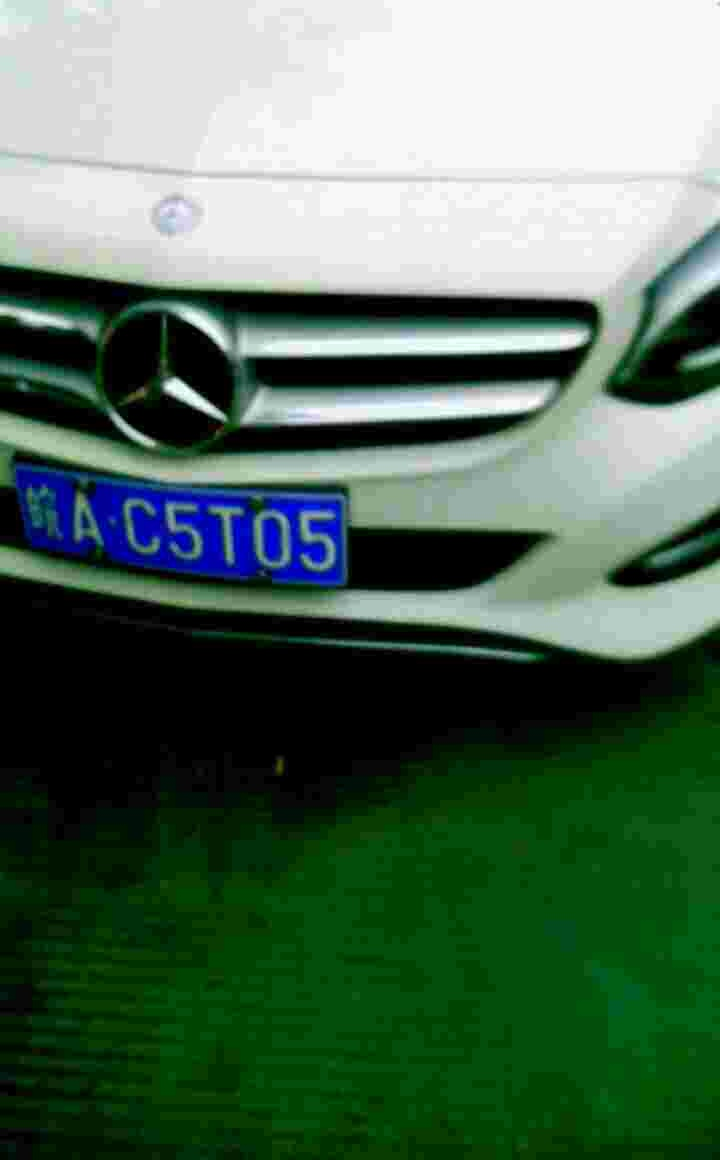license_plate: (13, 471, 344, 573)
